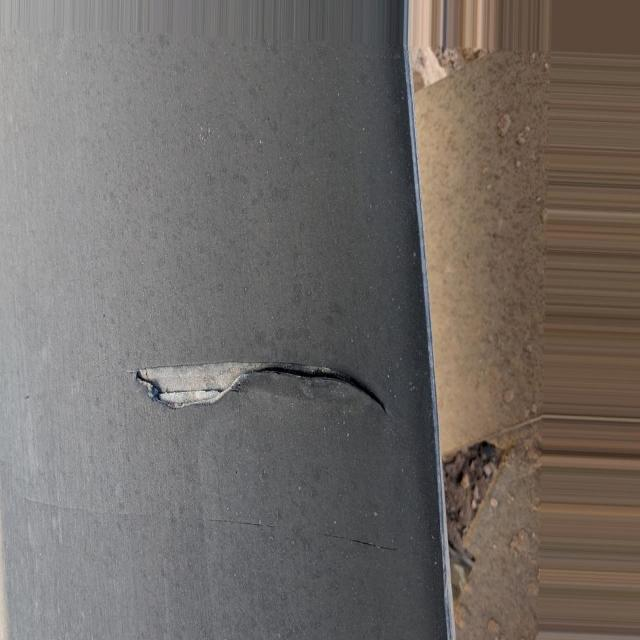Tear: (137, 362, 388, 412)
